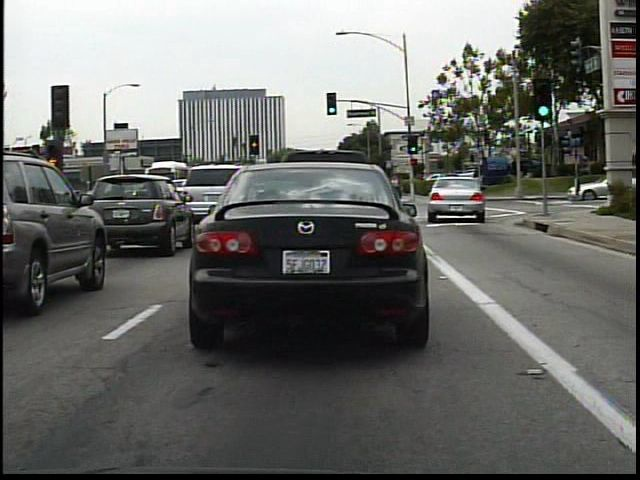person: (388, 173, 407, 203)
